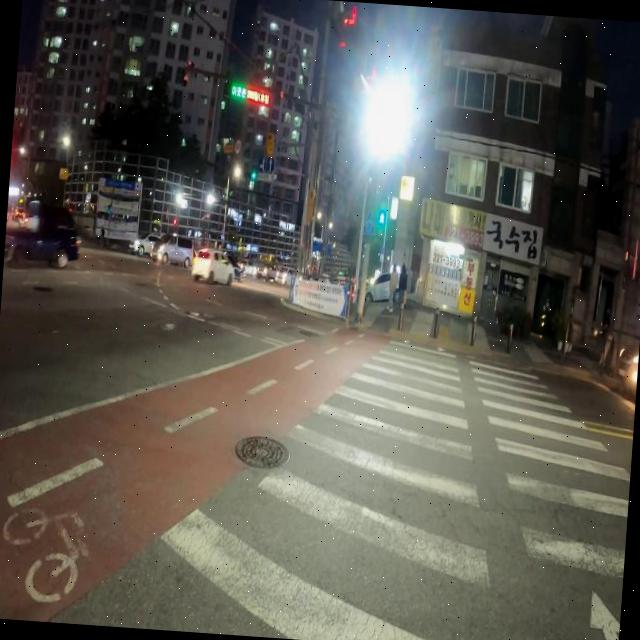crosswalk: (157, 335, 628, 640)
